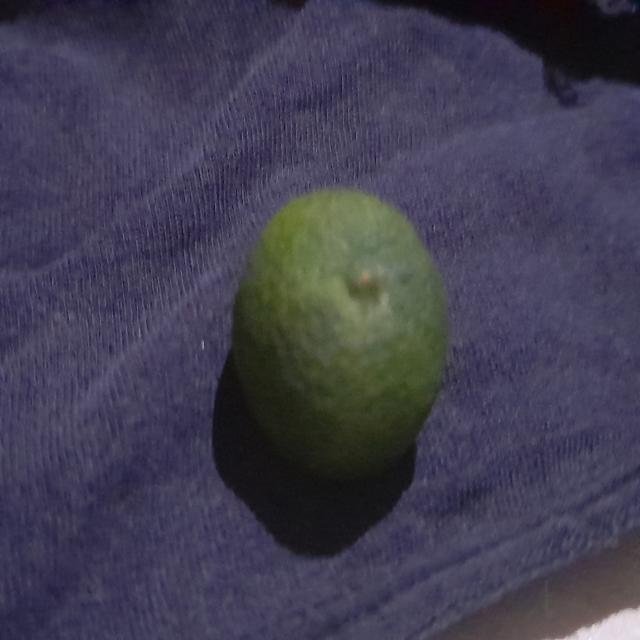heathy: (230, 186, 453, 479)
